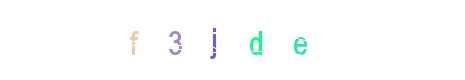3: (137, 0, 217, 80)
D: (192, 0, 272, 80)
E: (236, 0, 316, 80)
F: (122, 0, 202, 80)
J: (174, 0, 254, 80)
